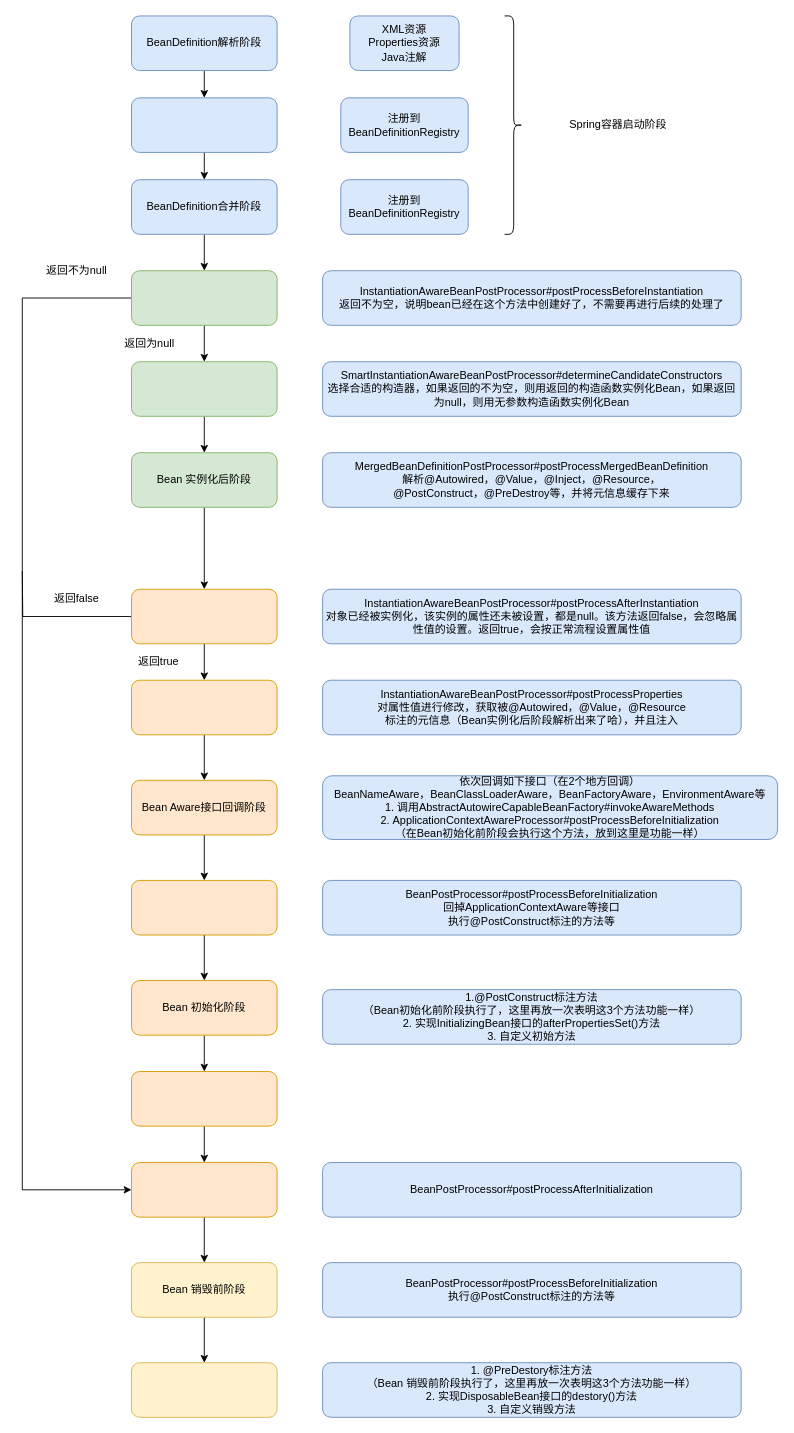
The diagram is 794 pixels wide and 1433 high, and some of its shapes have lost their labels. The shapes that lost their labels are listed below. From the top down, each one's centre as x and y in pixels, then its label:
pixel 204 124: BeanDefinition注册阶段
pixel 204 297: Bean 实例化前阶段
pixel 204 388: Bean 实例化阶段
pixel 204 616: Bean 属性赋值前阶段
pixel 204 707: Bean 属性赋值阶段
pixel 204 907: Bean 初始化前阶段
pixel 204 1098: Bean 初始化后阶段
pixel 204 1189: Bean 初始化完成阶段
pixel 204 1389: Bean 销毁阶段
